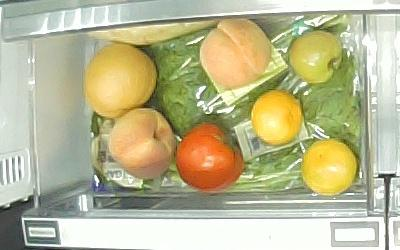peach: (199, 16, 272, 90), (109, 108, 176, 180)
pear: (82, 42, 159, 120)
tangerine: (300, 139, 357, 196), (250, 89, 303, 146)
tomato: (173, 123, 246, 192), (288, 29, 342, 84)
